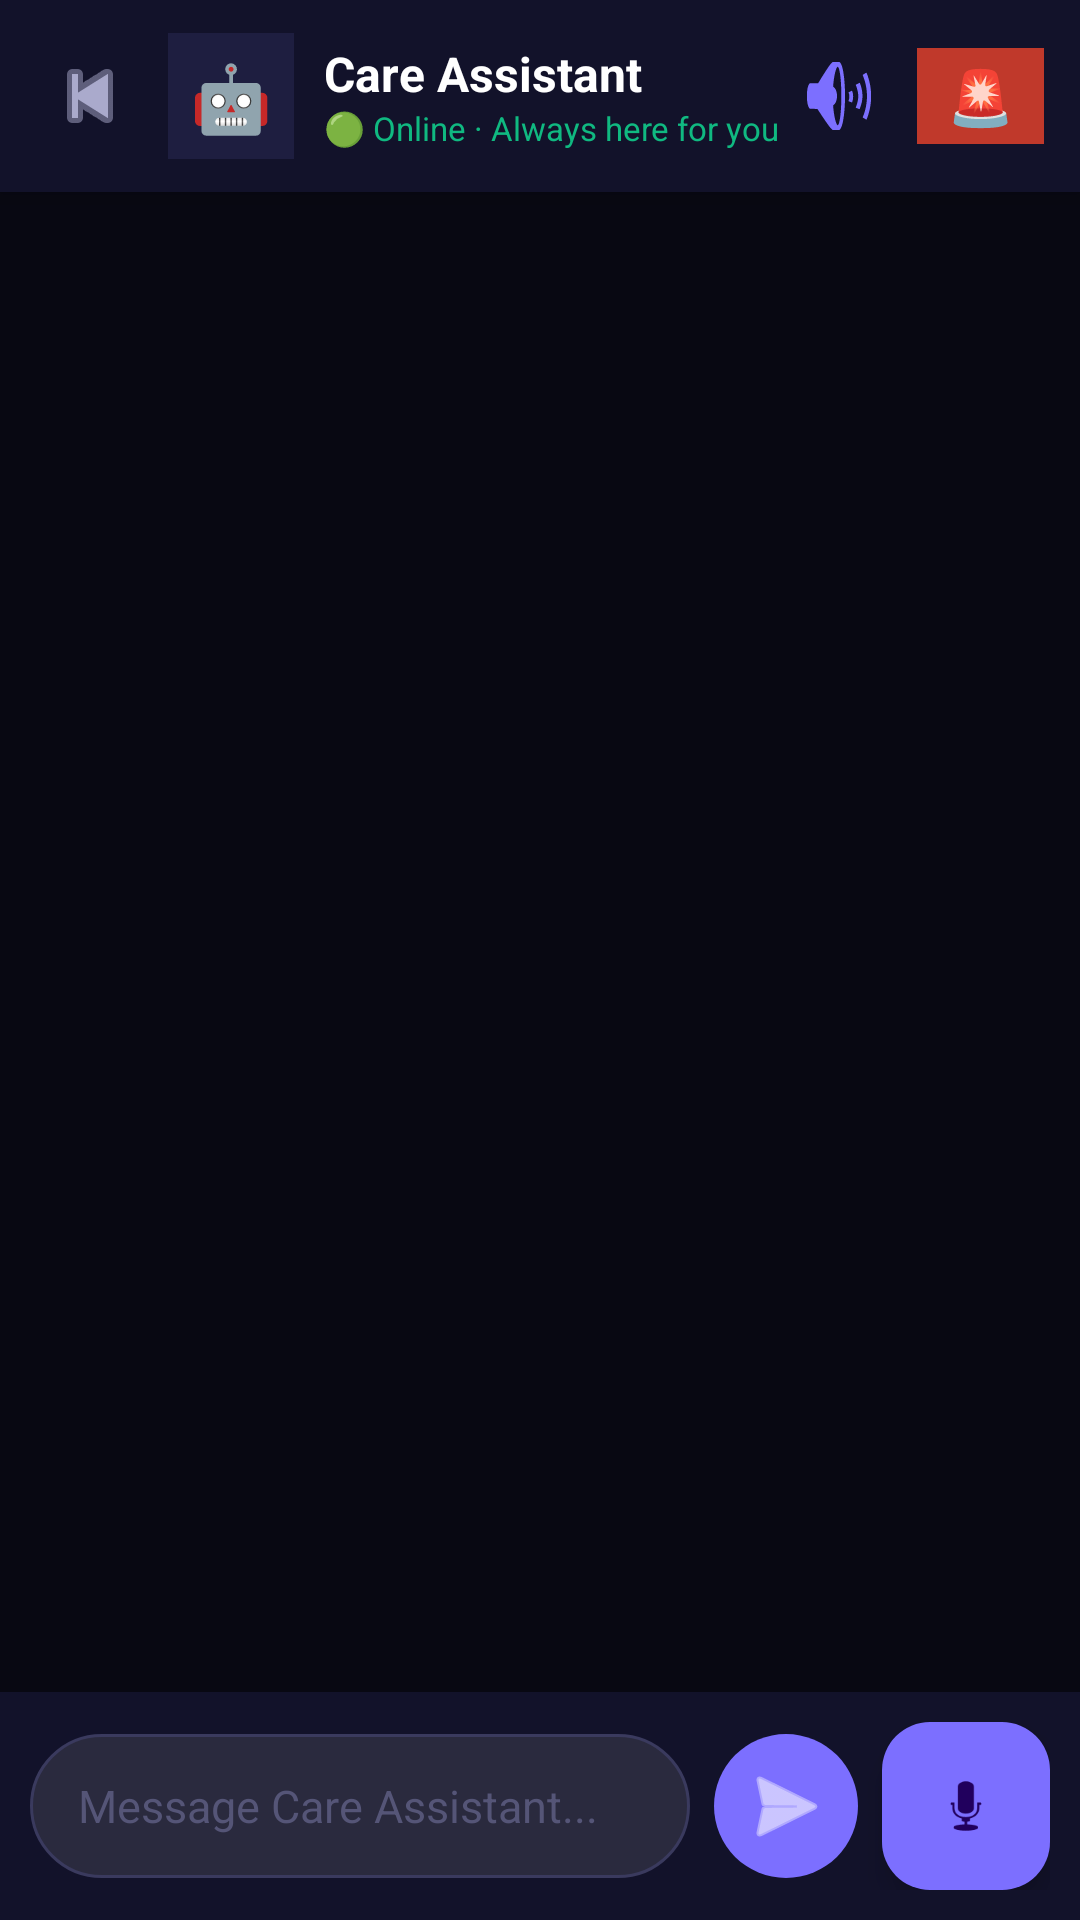

Point at icon controls on the screen. Image size 1080*1920, points as [x,y].
Back: [90,96]
Send: [786,1806]
Toggle voice: [839,96]
Voice: [966,1806]
